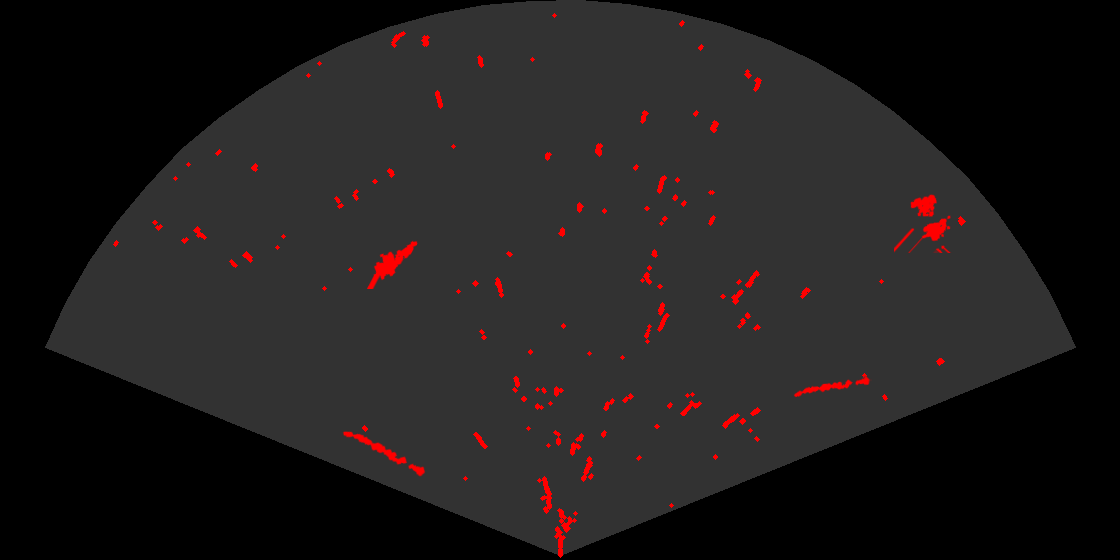cage: (894, 193, 953, 253)
chain: (341, 430, 427, 478), (792, 375, 872, 399)
frogman: (365, 239, 419, 289)
